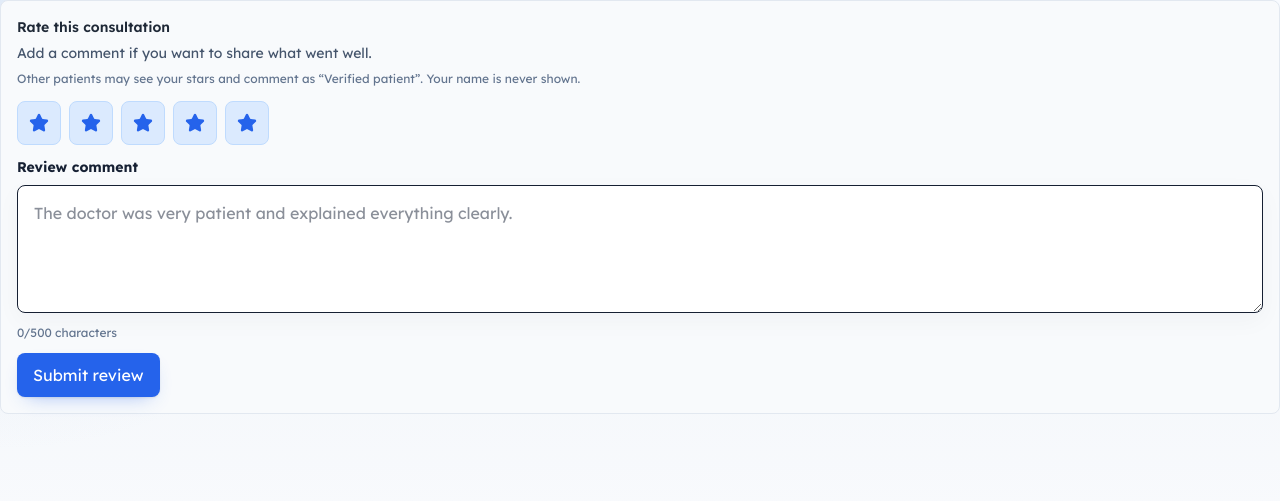
Test: ConsultationReviewForm › submits the selected score with a trimmed comment and refreshes appointments
Click the radio button named "4 stars".
click(195, 123)  # box [173,101,217,145]
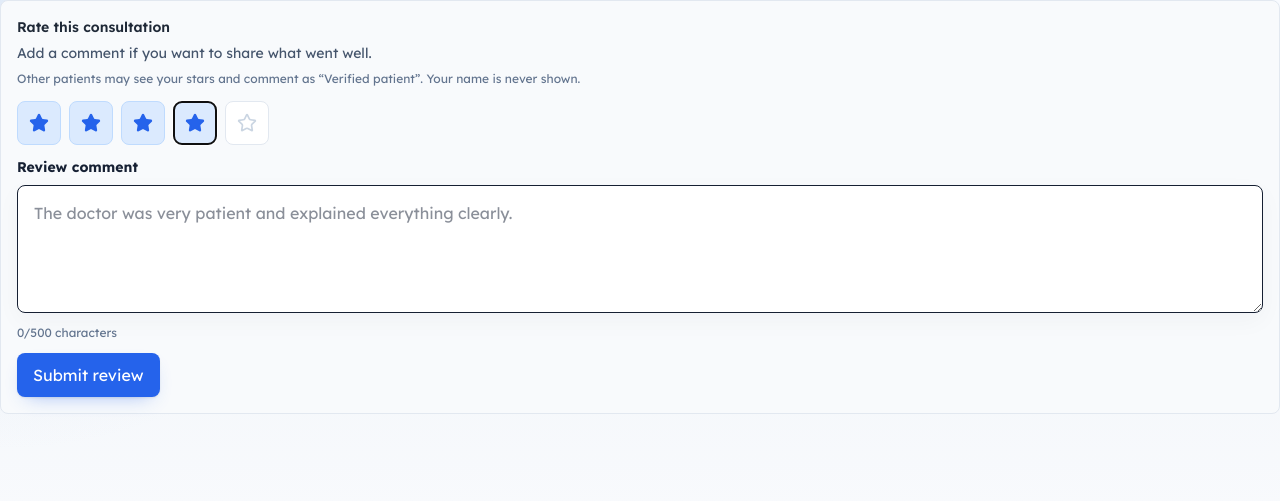
Type "  Clear advice  " into the text box.
click(640, 249); type("  Clear advice  ")  # box [17,185,1263,313]
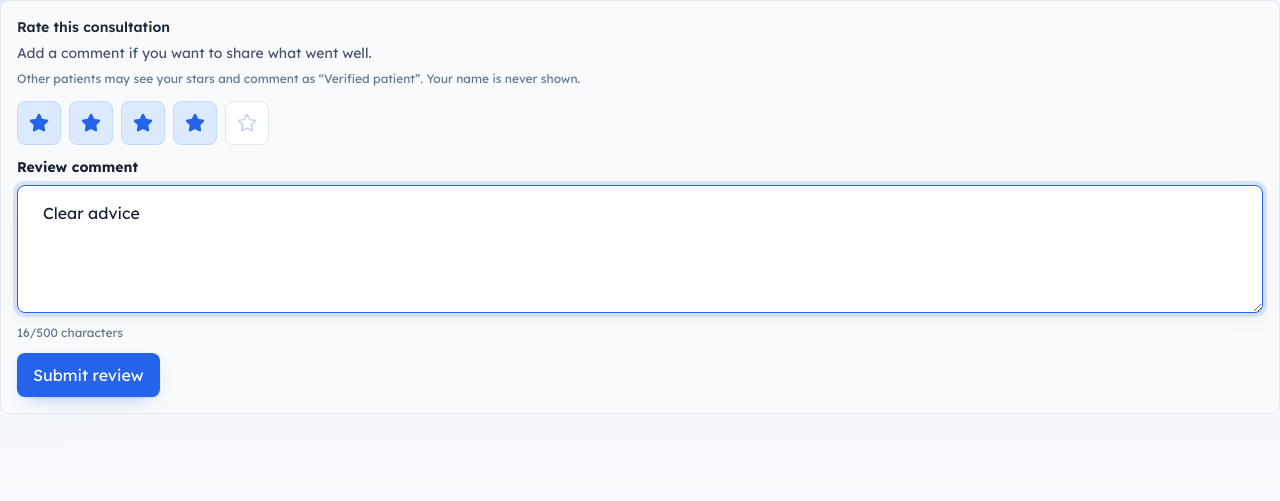
Click the button "Submit review".
click(88, 375)  # box [17,353,160,397]
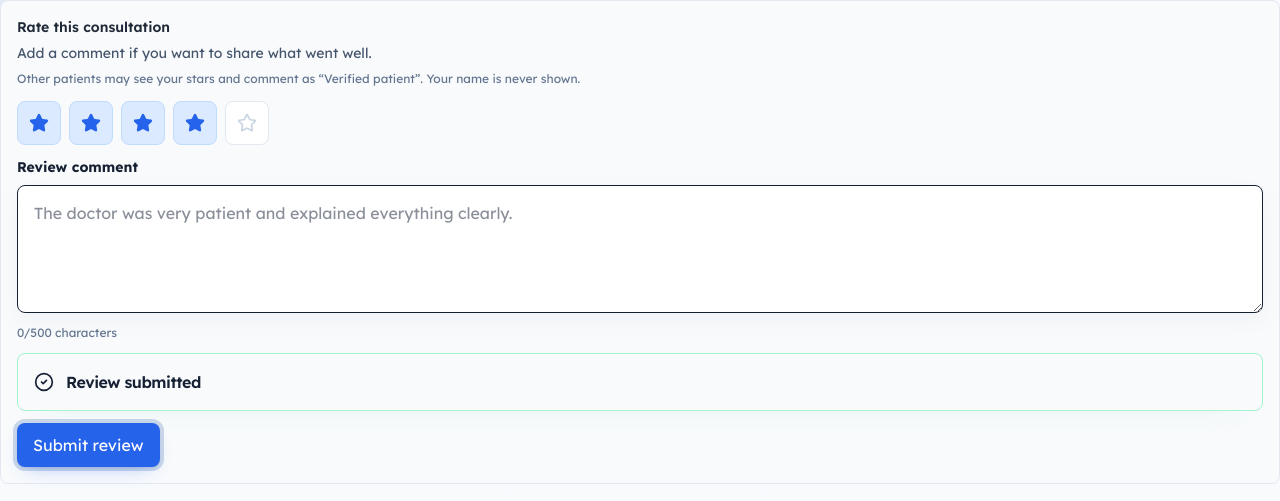
Result: the text "Review submitted" is shown at [66,370,201,394]
